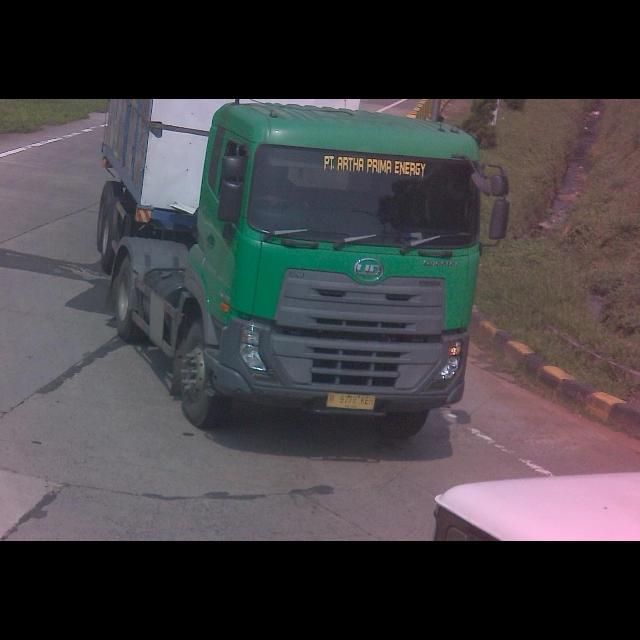plate: (324, 389, 380, 413)
